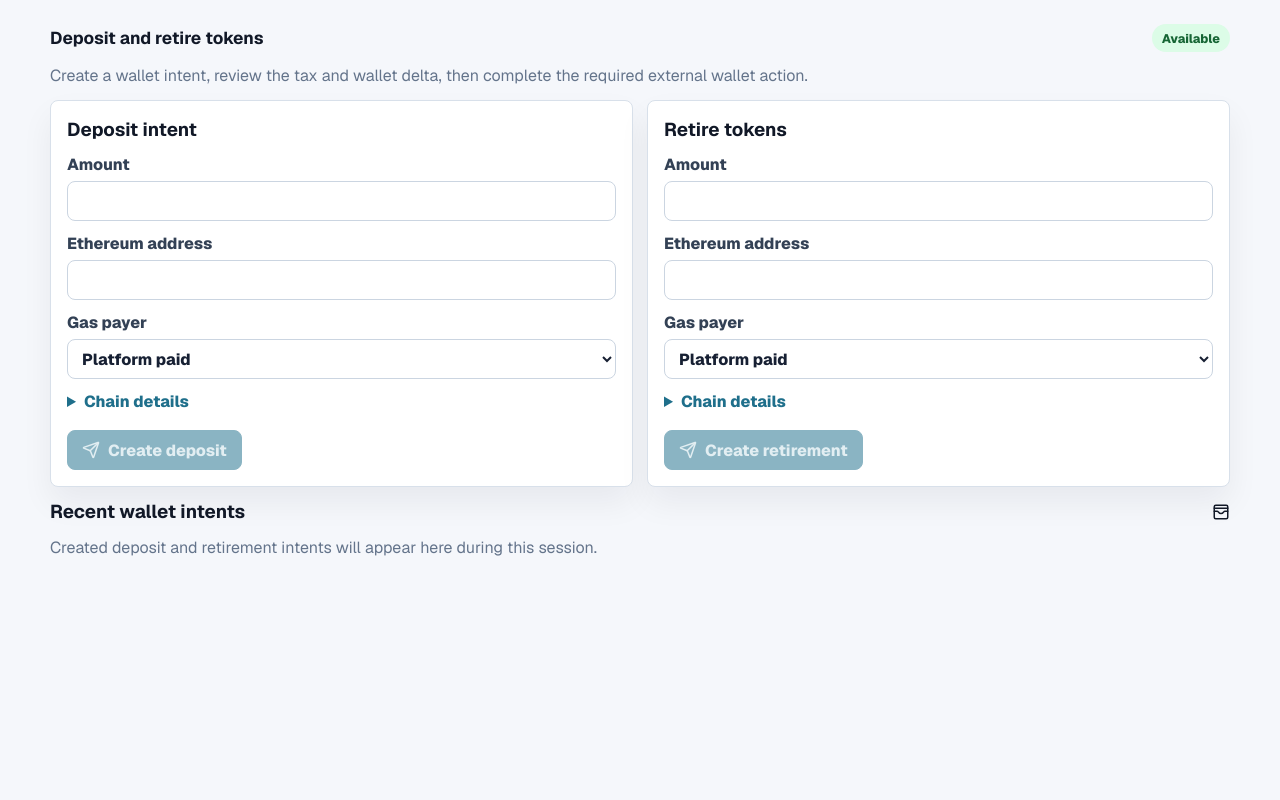
it: WalletTransferPanel › submits user-paid retirement and shows MetaMask-required messaging
Expected: the form "Retire tokens" is shown, [647,100,1230,487]
Type "5" into the 2nd number field labelled "Amount" at [938, 201], box [664,181,1213,221]
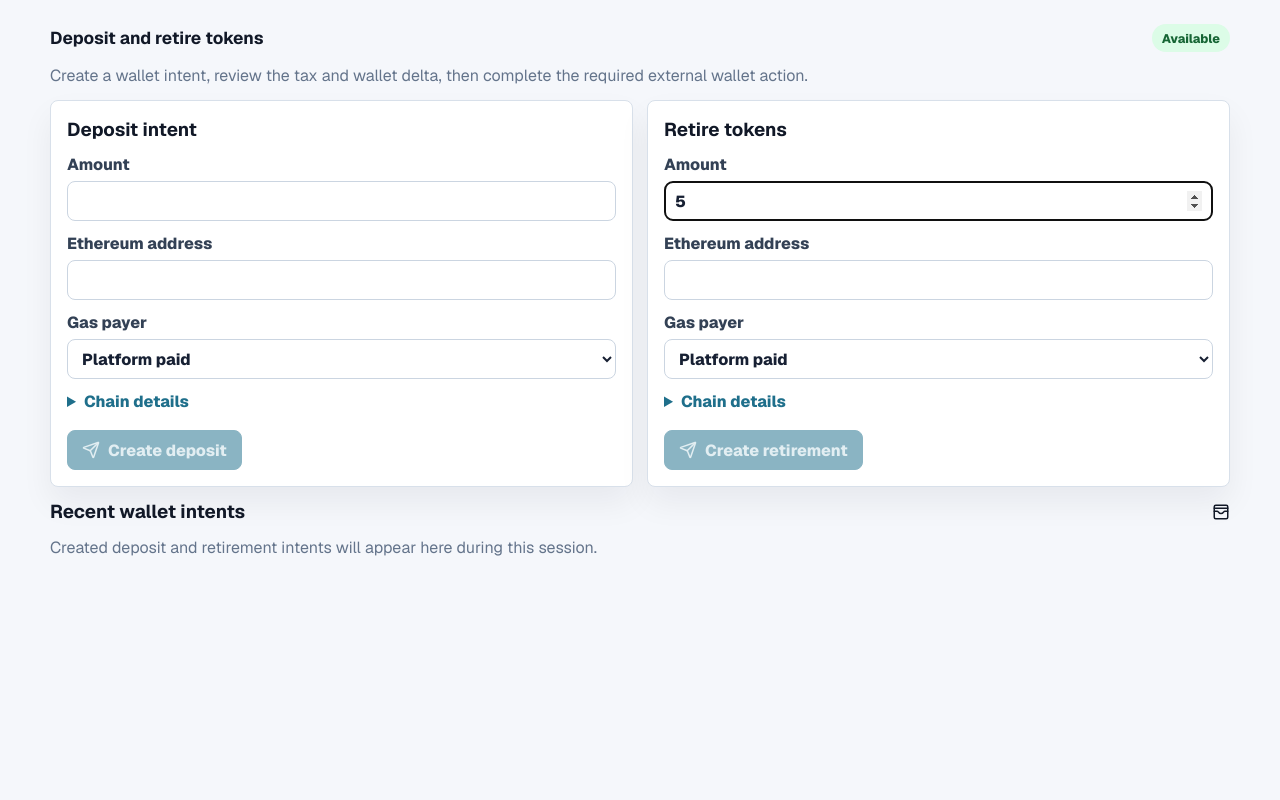
Type "0xwallet" into the 2nd field labelled "Ethereum address" at [938, 280], box [664,260,1213,300]
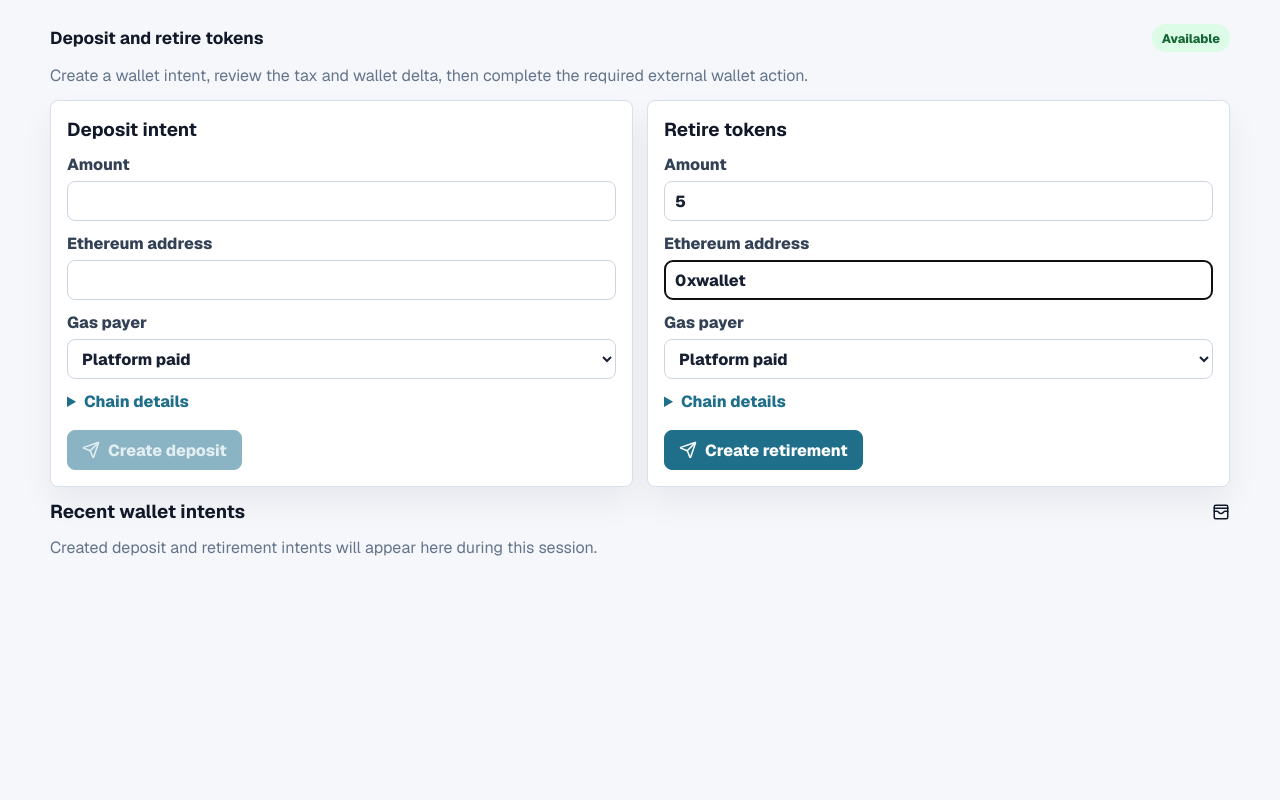
Select "User paid" in the 2nd dropdown labelled "Gas payer" at [938, 359], box [664,339,1213,379]
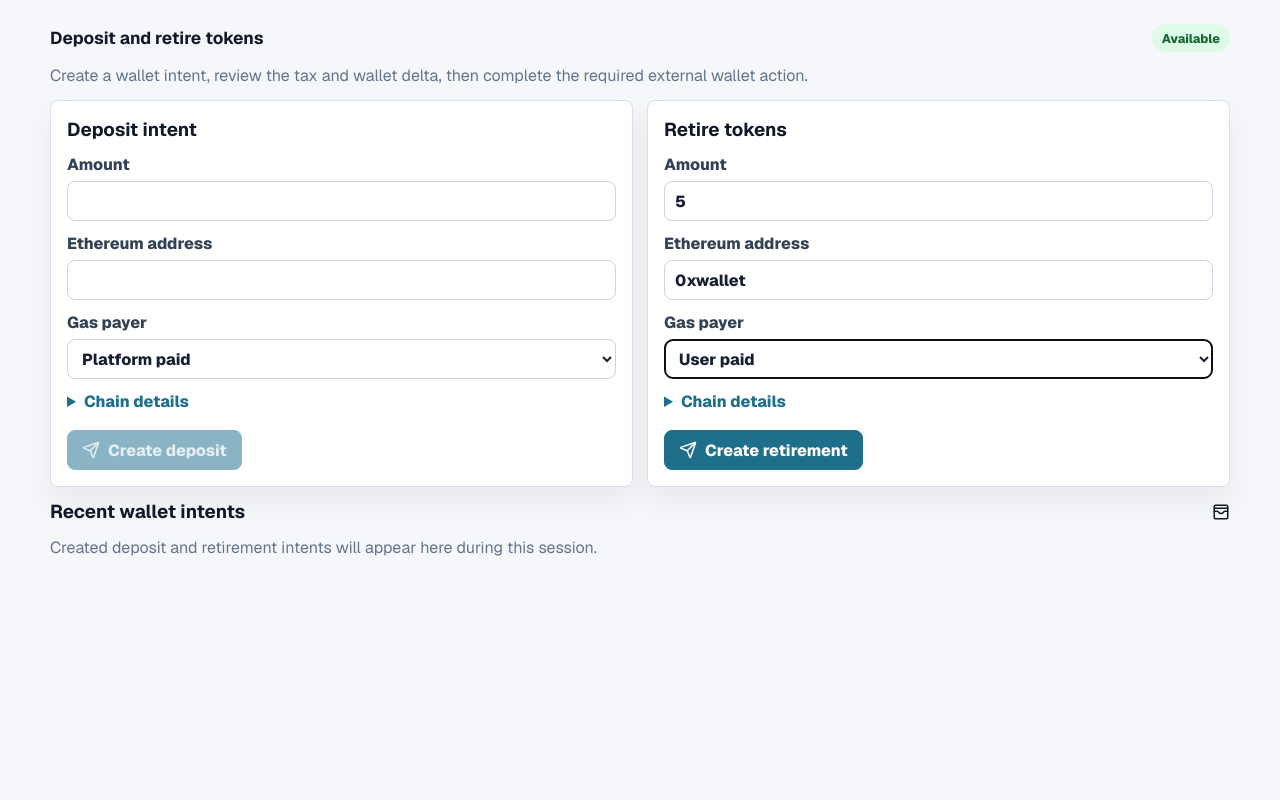
Click the button "Create retirement" at [763, 450], box [664,430,863,470]
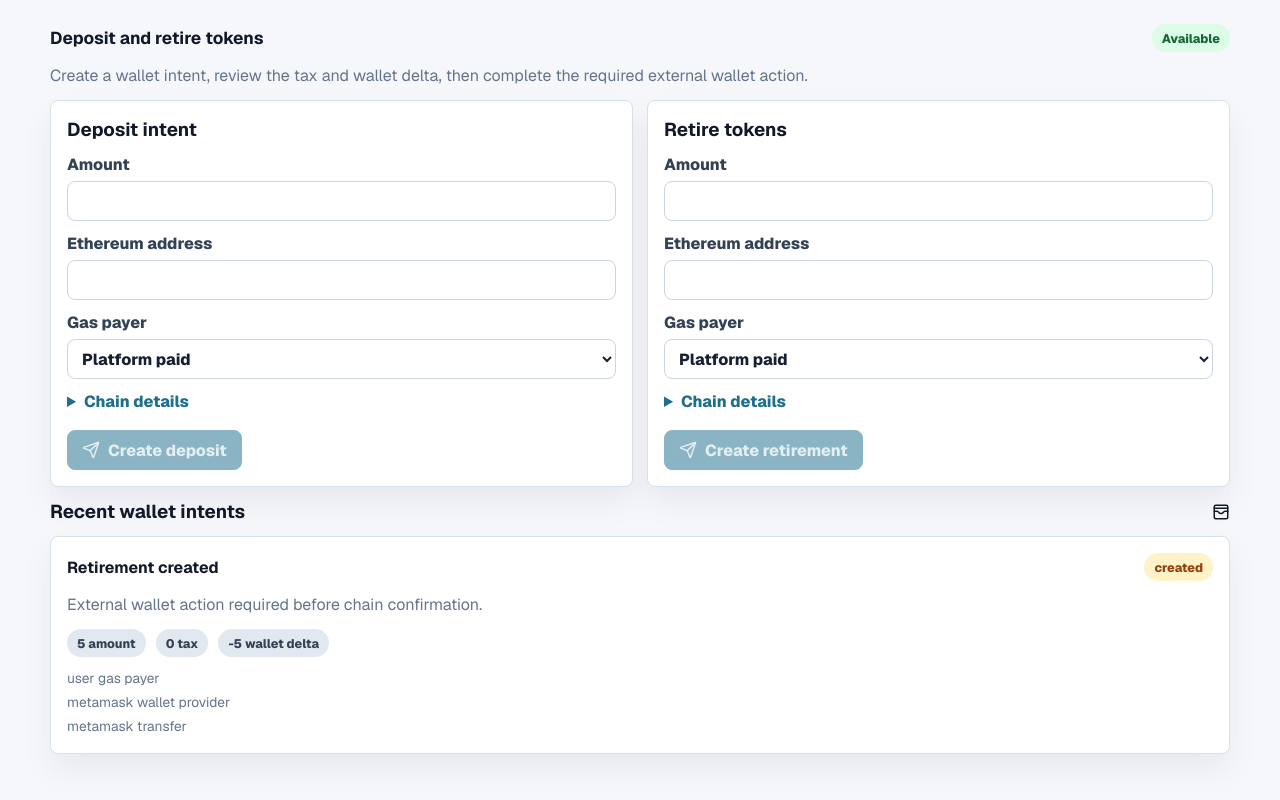
Now the heading "Retirement created" is shown, box [67,556,219,578]
Now the text "External wallet action required before chain confirmation." is shown, box [67,594,482,615]
Now the text "metamask transfer" is shown, box [67,717,187,735]
